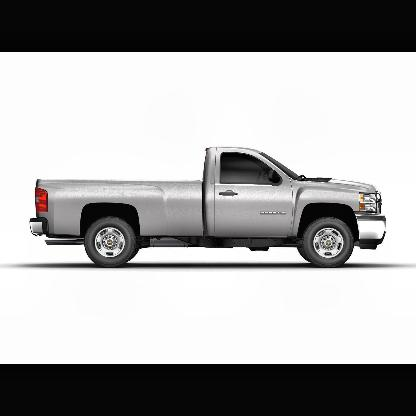Chevrolet Silverado 2500HD Regular Cab 2012: (32, 148, 387, 269)
